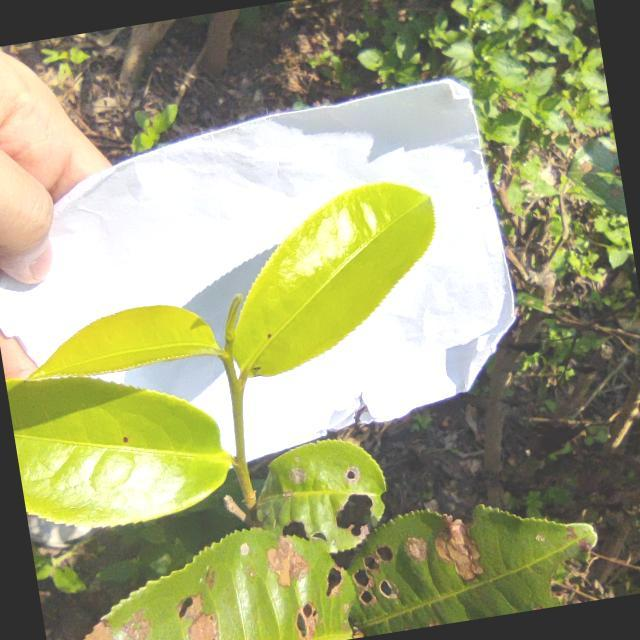Stem: (230, 379, 244, 394)
